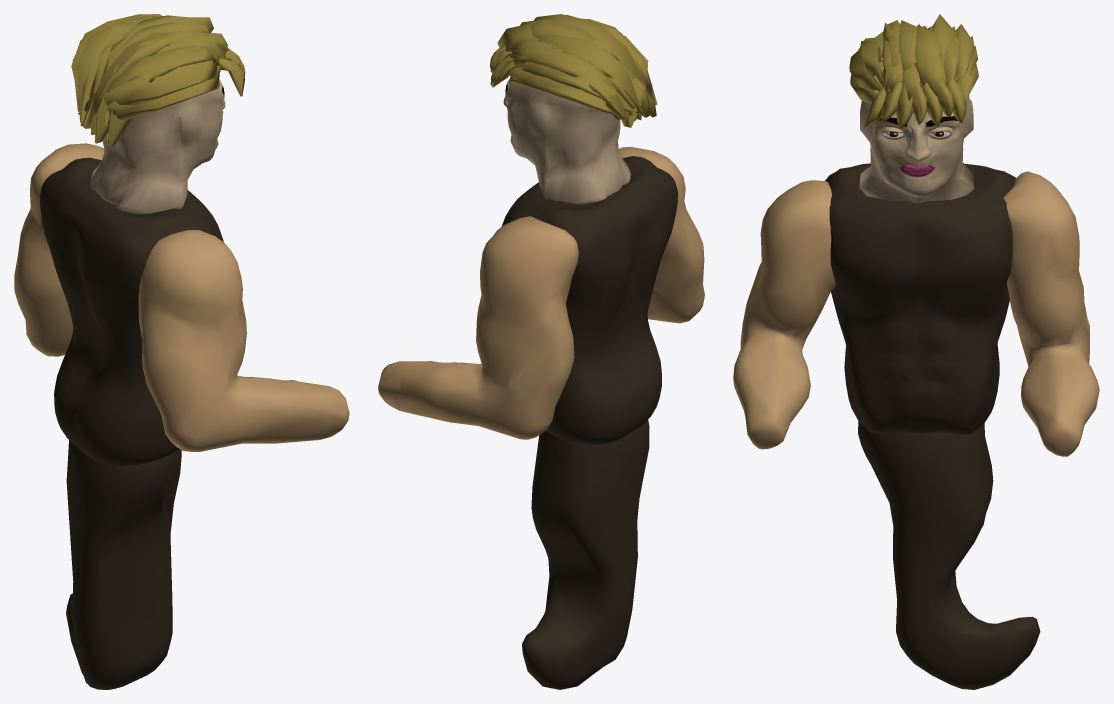
Rendered from locomotoraCabeza2.fbx.
The picture shows the model from 3 angles, left to right: view 1: azimuth 30°, elevation 25°; view 2: azimuth 150°, elevation 25°; view 3: azimuth 270°, elevation 25°; orthographic projection. The views are drawn at different scales.
Visible parts, largest first — view 1: Esfera.003, Esfera.002, Esfera.004, Esfera, Esfera.001, Curva NURBS.022, Curva NURBS.005, Curva NURBS.011, Curva NURBS.007, Curva NURBS.023, Curva NURBS.006, Curva NURBS.009 (+3 smaller); view 2: Esfera.003, Esfera.001, Esfera.004, Esfera, Esfera.002, Curva NURBS.007, Curva NURBS.012, Curva NURBS.006, Curva NURBS.025, Curva NURBS.024, Curva NURBS.019, Curva NURBS.011 (+1 smaller); view 3: Esfera.003, Esfera.004, Esfera.001, Esfera.002, Esfera, Curva NURBS.005, Curva NURBS.019, Curva NURBS.006, Curva NURBS.012, Curva NURBS.022, Curva NURBS.018, Cubo.001 (+1 smaller).
Part boxes in pixels (box(x1,y1,x2,y2)): Esfera.003: box(40, 157, 223, 466); Esfera.002: box(138, 230, 349, 451); Esfera.004: box(66, 440, 181, 689); Esfera: box(90, 79, 224, 214); Esfera.001: box(14, 143, 104, 356); Curva NURBS.022: box(78, 55, 219, 116); Curva NURBS.005: box(97, 46, 215, 118); Curva NURBS.011: box(84, 32, 174, 124); Curva NURBS.007: box(76, 16, 159, 116); Curva NURBS.023: box(80, 66, 221, 128); Curva NURBS.006: box(90, 22, 209, 135); Curva NURBS.009: box(107, 35, 228, 147); Esfera.003: box(501, 156, 677, 444); Esfera.001: box(378, 216, 578, 439); Esfera.004: box(522, 419, 649, 689); Esfera: box(505, 77, 630, 204); Esfera.002: box(619, 147, 704, 323); Curva NURBS.007: box(539, 33, 641, 113); Curva NURBS.012: box(513, 46, 628, 119); Curva NURBS.006: box(534, 14, 650, 116); Curva NURBS.025: box(509, 67, 628, 115); Curva NURBS.024: box(514, 56, 633, 112); Curva NURBS.019: box(520, 19, 636, 120); Curva NURBS.011: box(581, 18, 657, 105); Esfera.003: box(825, 163, 1015, 434); Esfera.004: box(858, 421, 1040, 689); Esfera.001: box(1003, 171, 1099, 456); Esfera.002: box(733, 180, 835, 449); Esfera: box(859, 95, 974, 203); Curva NURBS.005: box(860, 32, 883, 87); Curva NURBS.019: box(915, 25, 941, 85); Curva NURBS.006: box(899, 20, 919, 71); Curva NURBS.012: box(954, 24, 974, 84); Curva NURBS.022: box(849, 37, 883, 92); Curva NURBS.018: box(914, 53, 946, 96); Cubo.001: box(904, 121, 930, 162).
Bounding box in the file's own units: 298 × 930 × 464.
